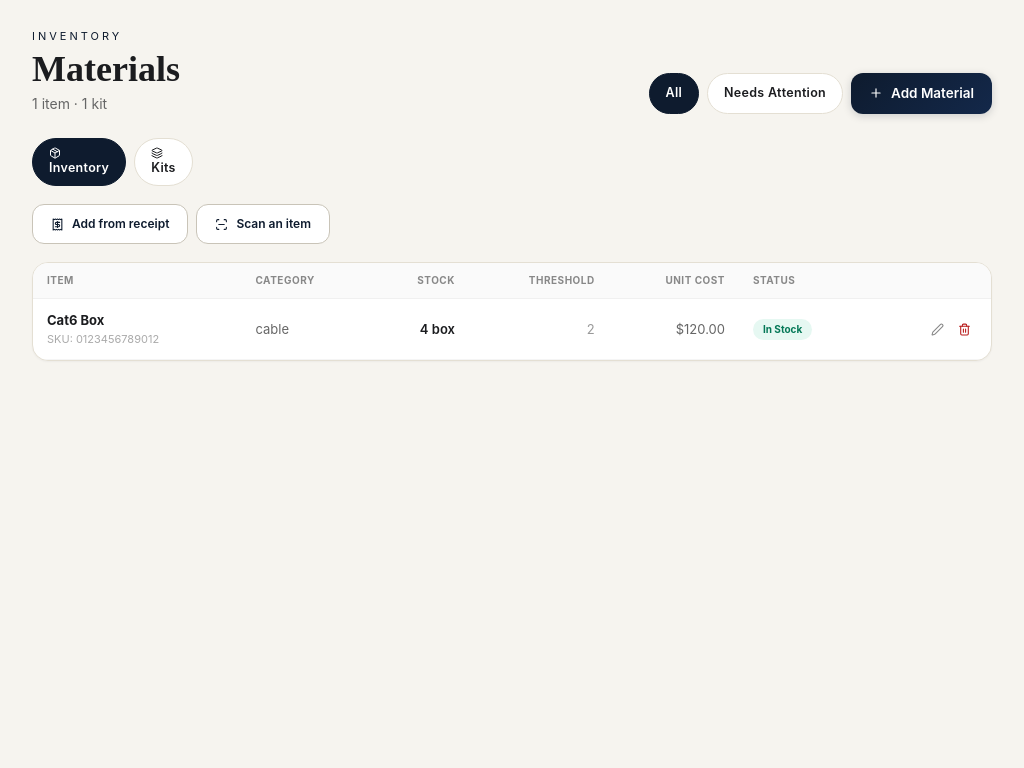
Test case: barcode lookup › finds a stocked item by its barcode and shows how many are on the shelf
Click the button "Scan an item" at (263, 224), box [196,204,330,244]
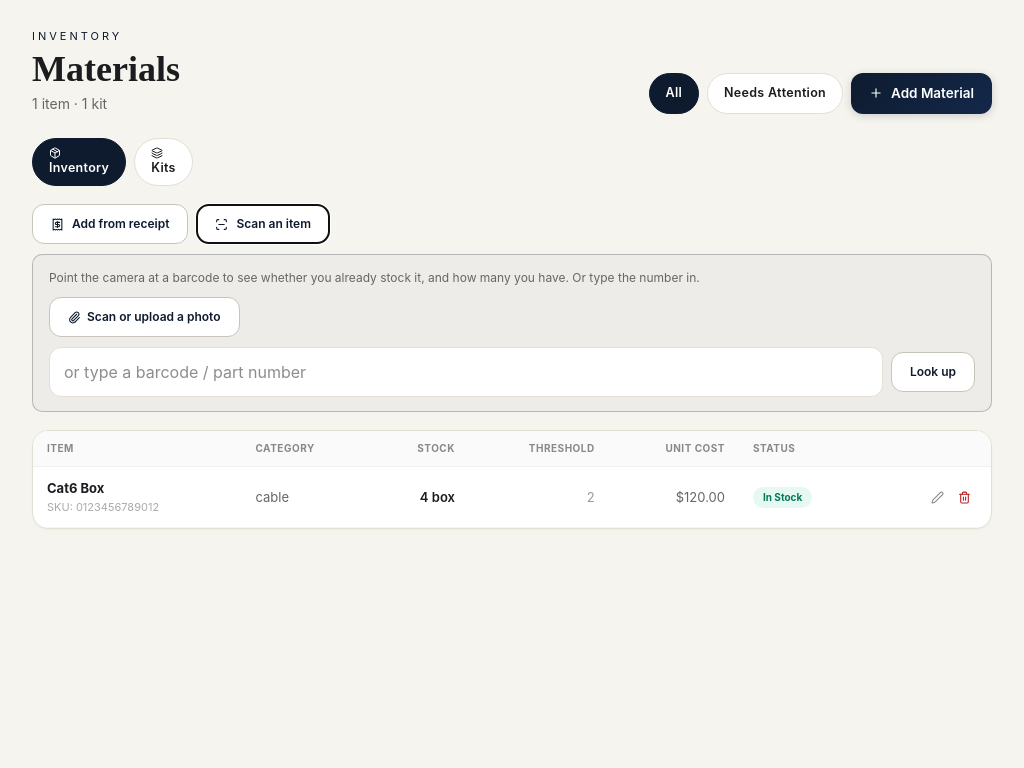
Type "0123456789012" into the field with placeholder "or type a barcode / part number" at (466, 372), box [49,347,883,397]
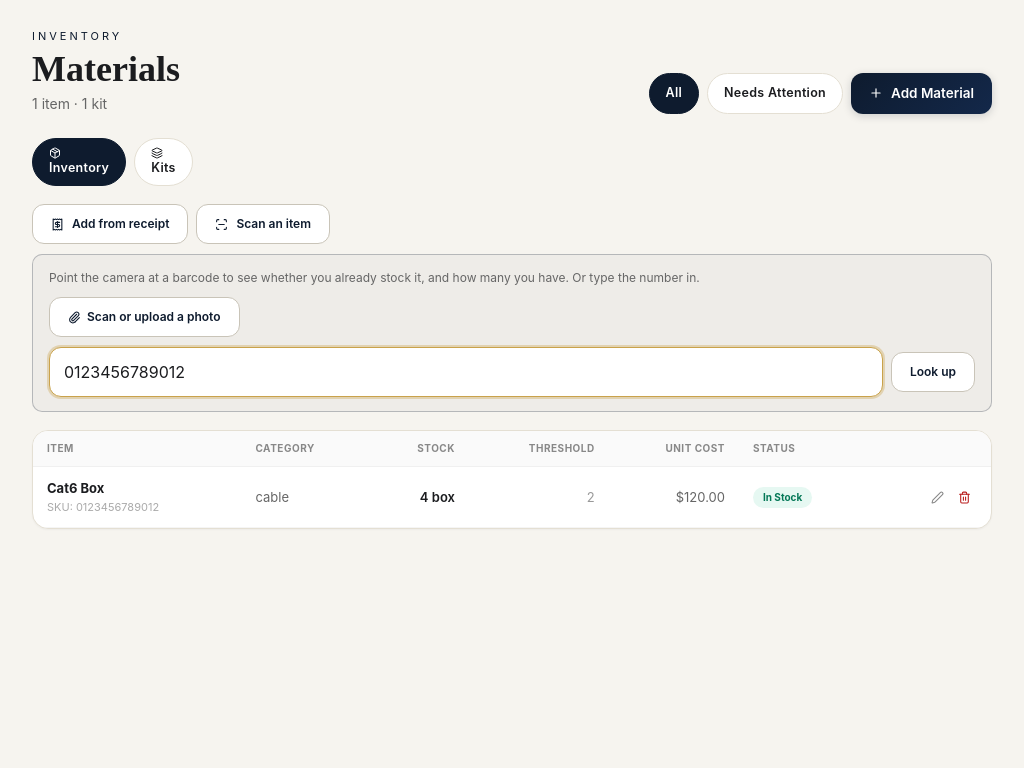
Click the button "Look up" at (933, 372), box [891,352,975,392]
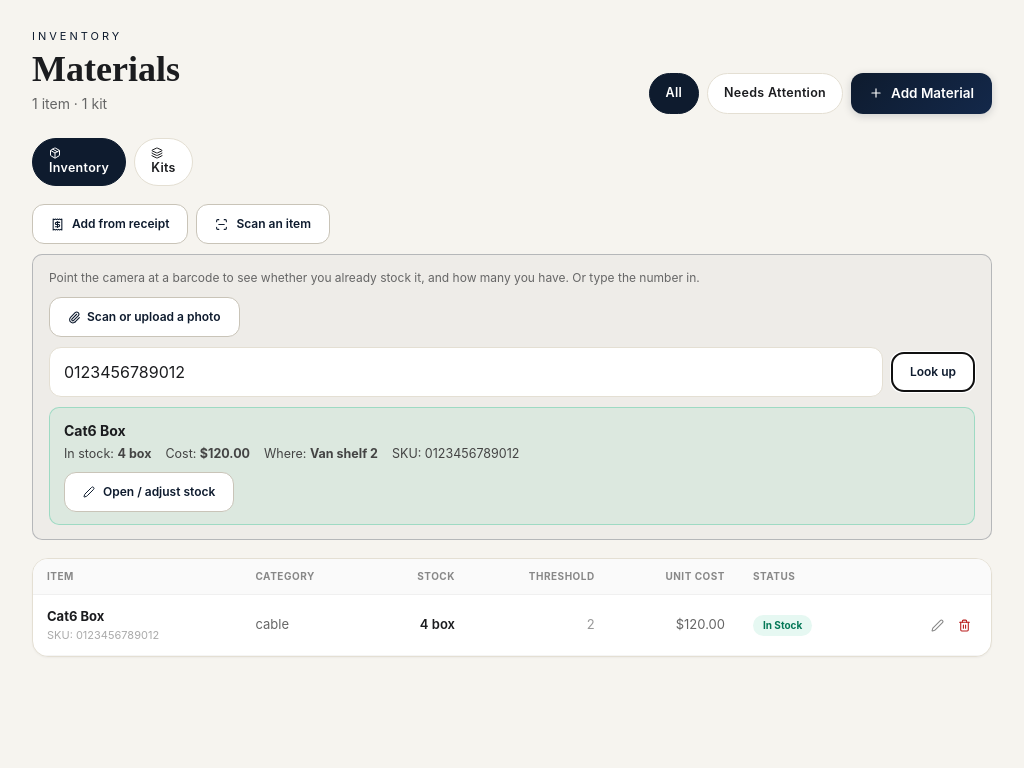
Check: the text "Van shelf 2" shows "4 box", box [64,446,519,461]
